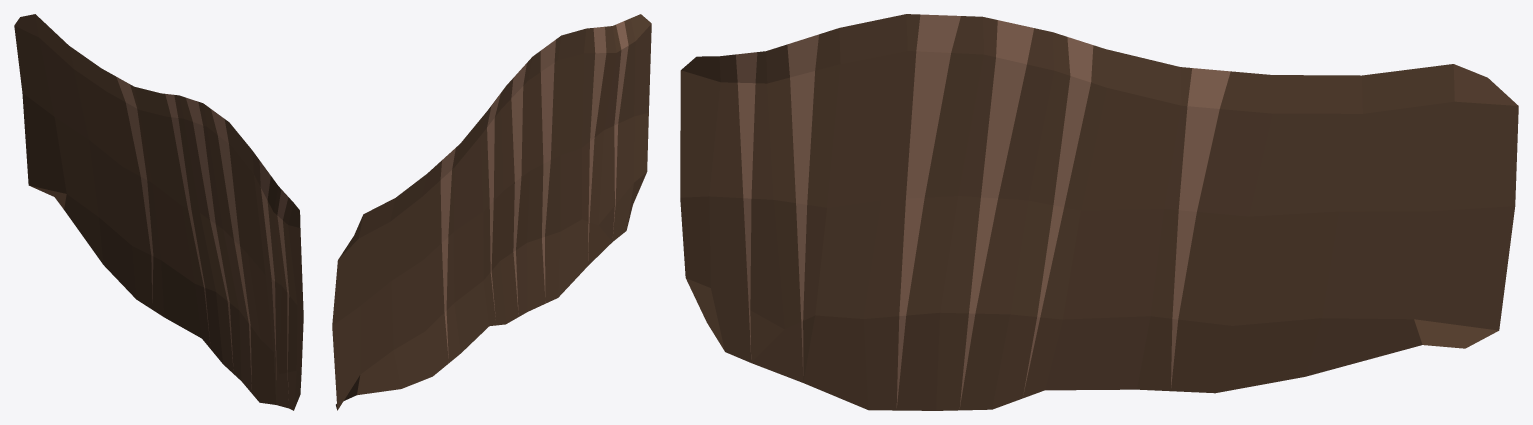
The model's file is kuduSkin.fbx.
3 renders of one model, left to right at view 1: azimuth 30°, elevation 25°; view 2: azimuth 150°, elevation 25°; view 3: azimuth 270°, elevation 25°, orthographic. The views are drawn at different scales.
Visible parts, largest first — view 1: Kudo.002; view 2: Kudo.002; view 3: Kudo.002.
Part boxes in pixels (<box>): Kudo.002: <box>14,14,303,410</box>; Kudo.002: <box>332,14,651,410</box>; Kudo.002: <box>680,14,1518,410</box>.
Size of the model in its own units: 4.88 by 37.72 by 74.49.
